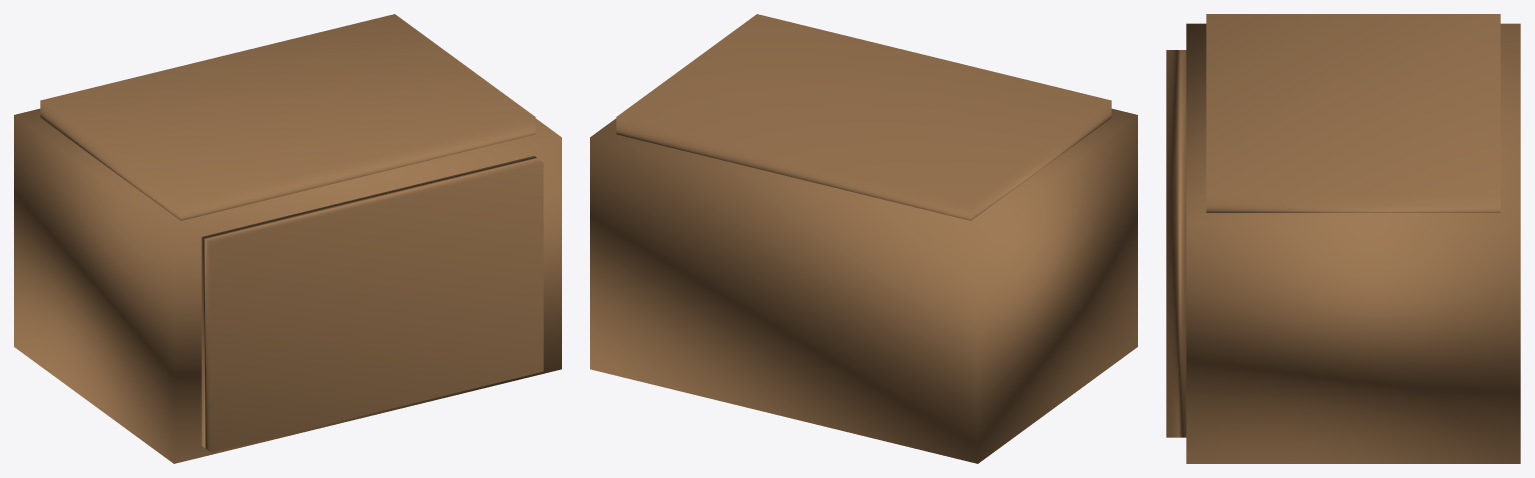
The model's file is codex.obj.
3 views of the same model, side by side, from view 1: azimuth 30°, elevation 25°; view 2: azimuth 150°, elevation 25°; view 3: azimuth 270°, elevation 25° (orthographic). The views are drawn at different scales.
Size of the model in its own units: 2.8 by 1.72 by 2.12.
